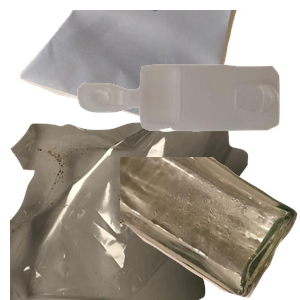glass: (120, 157, 300, 300)
paper: (17, 10, 254, 141)
plastic: (75, 62, 300, 186)
trash: (10, 120, 250, 300)
